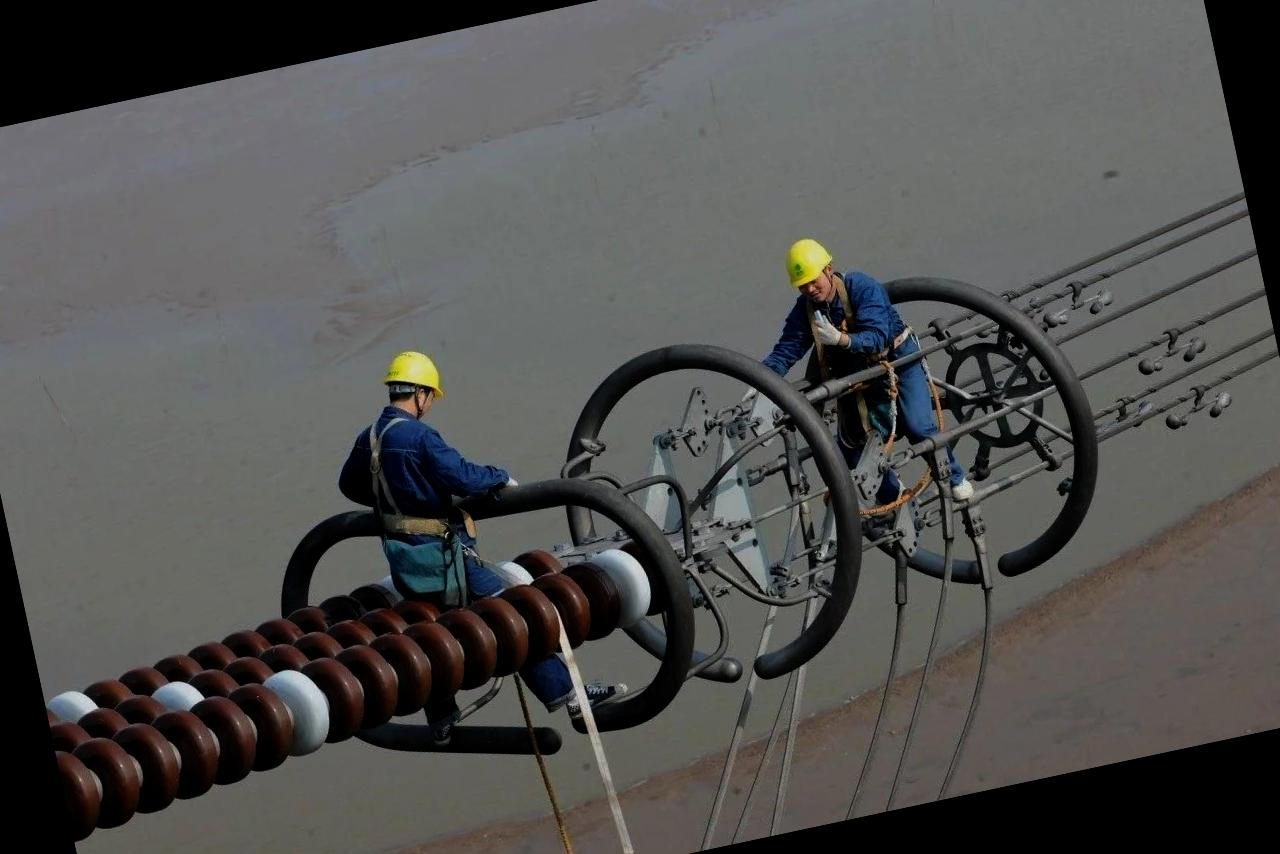helmet: (372, 343, 443, 401), (777, 229, 837, 284)
person: (308, 330, 542, 750), (751, 216, 968, 570)
